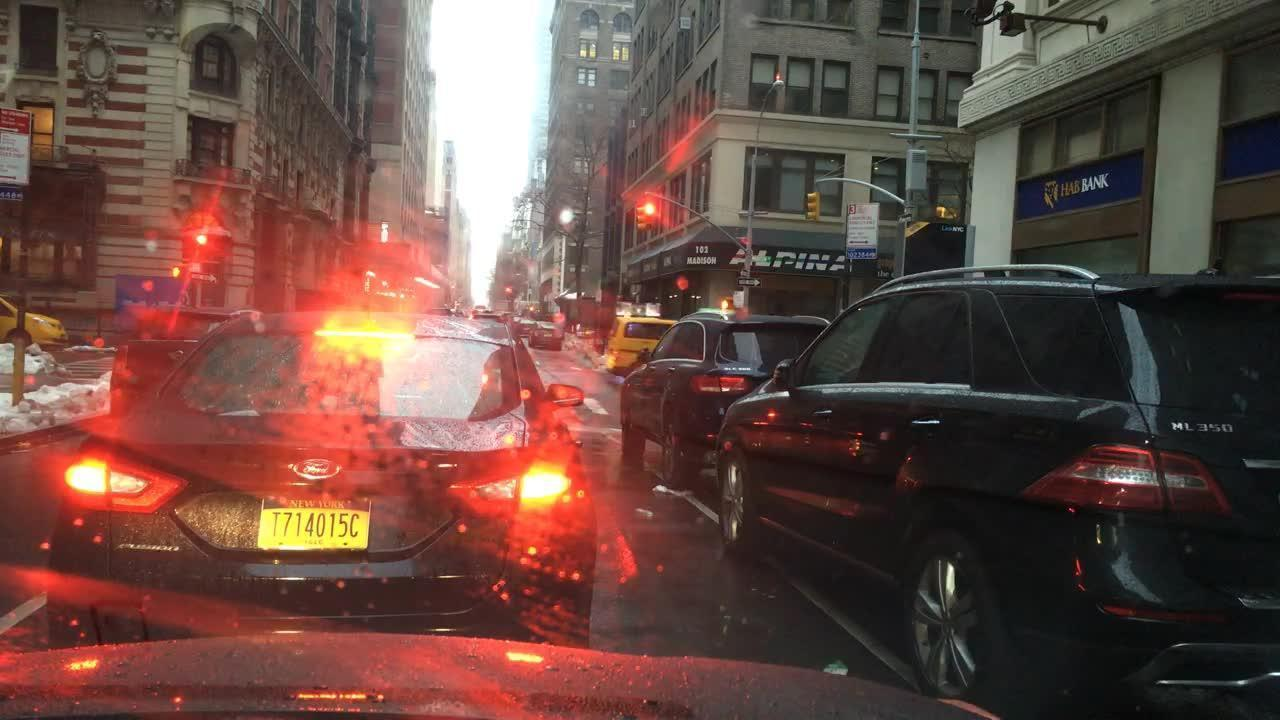ford: (280, 453, 352, 491)
